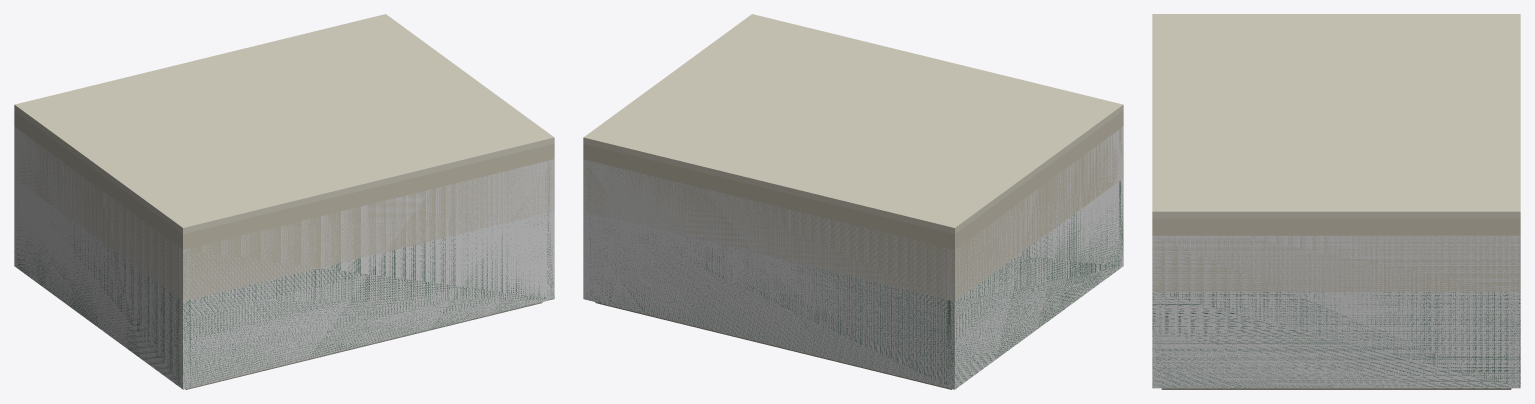
File: mirror.glb
3 views of the same model, side by side, from view 1: azimuth 30°, elevation 25°; view 2: azimuth 150°, elevation 25°; view 3: azimuth 270°, elevation 25° (orthographic). The views are drawn at different scales.
Visible parts, largest first — view 1: S_ceiling, COL_wall_south, S_wall_south_plaster, COL_wall_west, S_wall_south_tile, S_wall_west_plaster, S_wall_west_tile, COL_wall_east, S_floor, COL_wall_north, S_wall_east_plaster; view 2: S_ceiling, COL_wall_north, S_wall_north_plaster, COL_wall_west, S_wall_west_plaster, S_wall_north_tile, S_wall_west_tile, COL_wall_east, COL_wall_south, S_floor; view 3: S_ceiling, COL_wall_east, S_wall_east_plaster, S_wall_east_tile, COL_wall_north, S_floor, COL_wall_south.
Boxes of the visible parts, <box> form: S_ceiling: <box>14,14,554,234</box>; COL_wall_south: <box>179,161,554,389</box>; S_wall_south_plaster: <box>179,144,554,301</box>; COL_wall_west: <box>14,126,190,389</box>; S_wall_south_tile: <box>179,216,546,389</box>; S_wall_west_plaster: <box>14,111,189,300</box>; S_wall_west_tile: <box>15,221,190,388</box>; COL_wall_east: <box>547,159,554,300</box>; S_floor: <box>185,302,542,389</box>; COL_wall_north: <box>14,127,18,268</box>; S_wall_east_plaster: <box>547,143,554,212</box>; S_ceiling: <box>583,14,1123,234</box>; COL_wall_north: <box>583,160,958,389</box>; S_wall_north_plaster: <box>583,144,957,300</box>; COL_wall_west: <box>947,130,1119,389</box>; S_wall_west_plaster: <box>947,114,1119,301</box>; S_wall_north_tile: <box>591,218,955,387</box>; S_wall_west_tile: <box>947,202,1119,388</box>; COL_wall_east: <box>583,159,590,300</box>; COL_wall_south: <box>1119,126,1123,268</box>; S_floor: <box>595,302,952,389</box>; S_ceiling: <box>1152,14,1520,218</box>; COL_wall_east: <box>1152,235,1520,388</box>; S_wall_east_plaster: <box>1152,218,1520,291</box>; S_wall_east_tile: <box>1152,292,1520,388</box>; COL_wall_north: <box>1511,236,1520,387</box>; S_floor: <box>1161,388,1511,389</box>; COL_wall_south: <box>1152,235,1161,387</box>.
Bounding box in the file's own units: 7.5 × 3.22 × 5.9.
